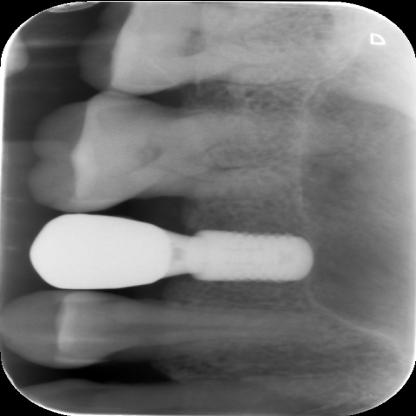ITI: (187, 225, 320, 281)
